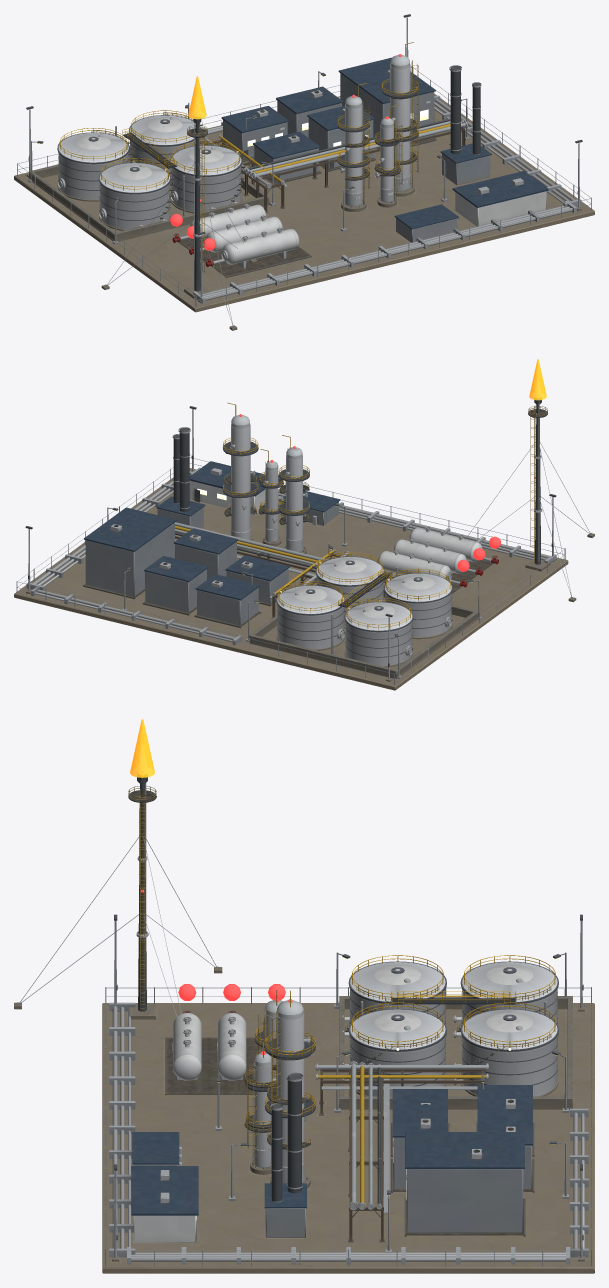
The model's file is cpf1.glb.
3 views of the same model, one above another, from view 1: azimuth 30°, elevation 25°; view 2: azimuth 150°, elevation 25°; view 3: azimuth 270°, elevation 25° (orthographic). The views are drawn at different scales.
Parts seen in each view (by area): view 1: cpf1_Body, cpf1_Dressing, Flame_Core; view 2: cpf1_Body, cpf1_Dressing; view 3: cpf1_Body, cpf1_Dressing, Flame_Core.
Part boxes in pixels (x1,y1,x2,y2): cpf1_Body: [14, 14, 594, 330]; cpf1_Dressing: [17, 64, 591, 306]; Flame_Core: [188, 76, 206, 119]; cpf1_Body: [14, 400, 594, 690]; cpf1_Dressing: [16, 424, 565, 685]; cpf1_Body: [14, 777, 594, 1273]; cpf1_Dressing: [105, 952, 591, 1266]; Flame_Core: [130, 719, 154, 777].
Bounding box in the file's own units: 15.72 × 7.4 × 12.97.
14 materials, 1 textured.
